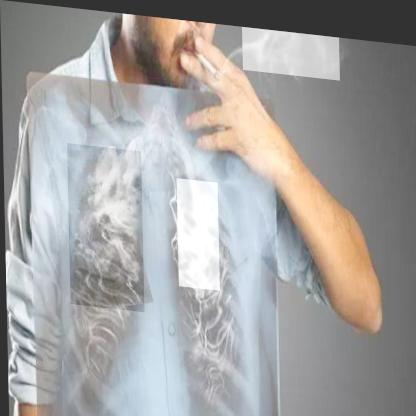smoke: (66, 142, 143, 309), (242, 21, 340, 73), (176, 174, 219, 286)
